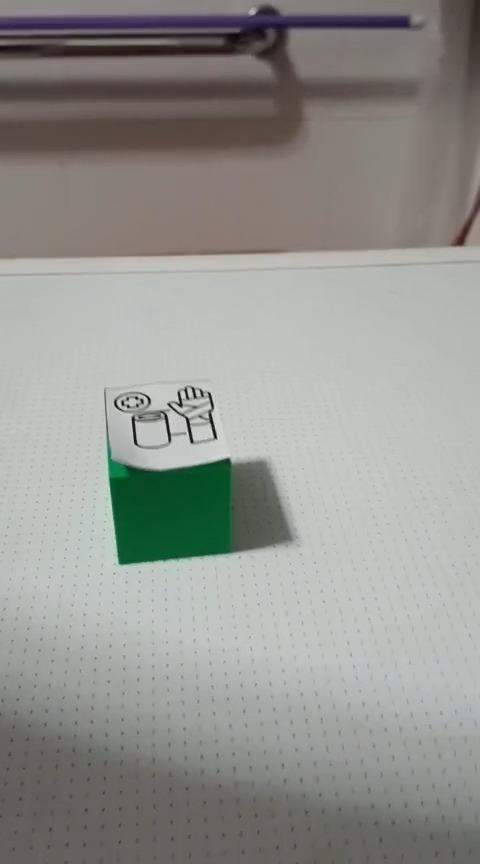Bandages: (103, 380, 234, 565)
